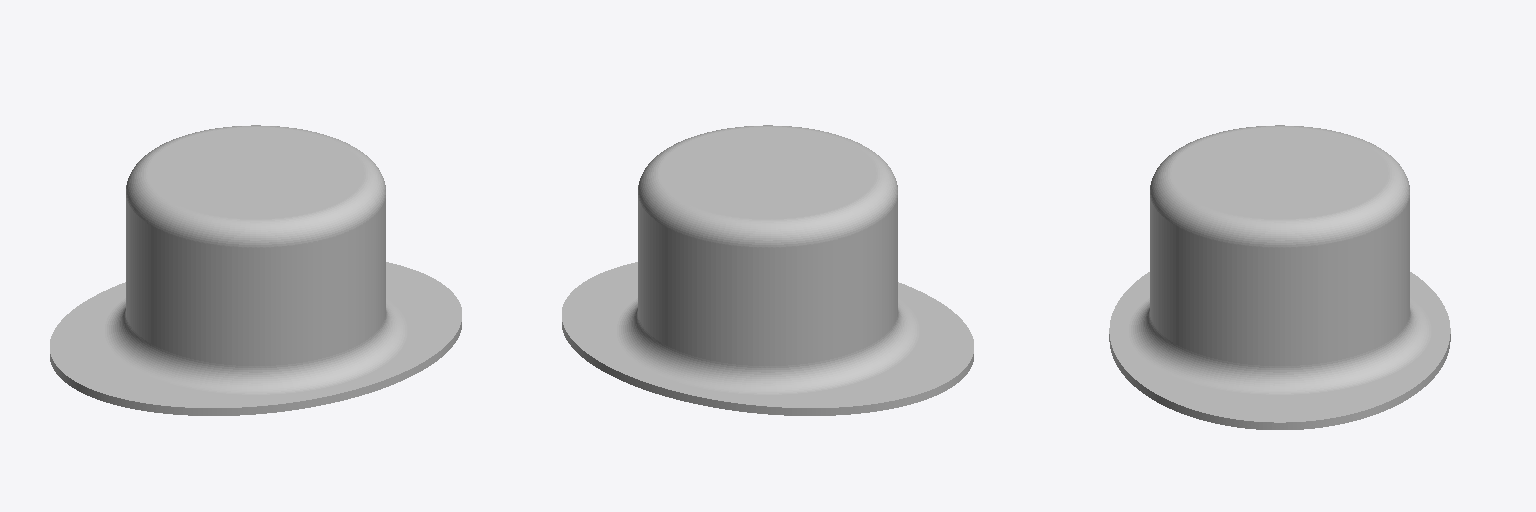
Rendered from hat2.obj.
3 views of the same model, side by side, from view 1: azimuth 30°, elevation 25°; view 2: azimuth 150°, elevation 25°; view 3: azimuth 270°, elevation 25° (orthographic).
Visible parts, largest first — view 1: MeshBody1; view 2: MeshBody1; view 3: MeshBody1.
Boxes of the visible parts, <box> form: MeshBody1: <box>50,125,461,415</box>; MeshBody1: <box>562,125,973,415</box>; MeshBody1: <box>1109,125,1450,429</box>.
Size of the model in its own units: 50 by 21 by 39.28.